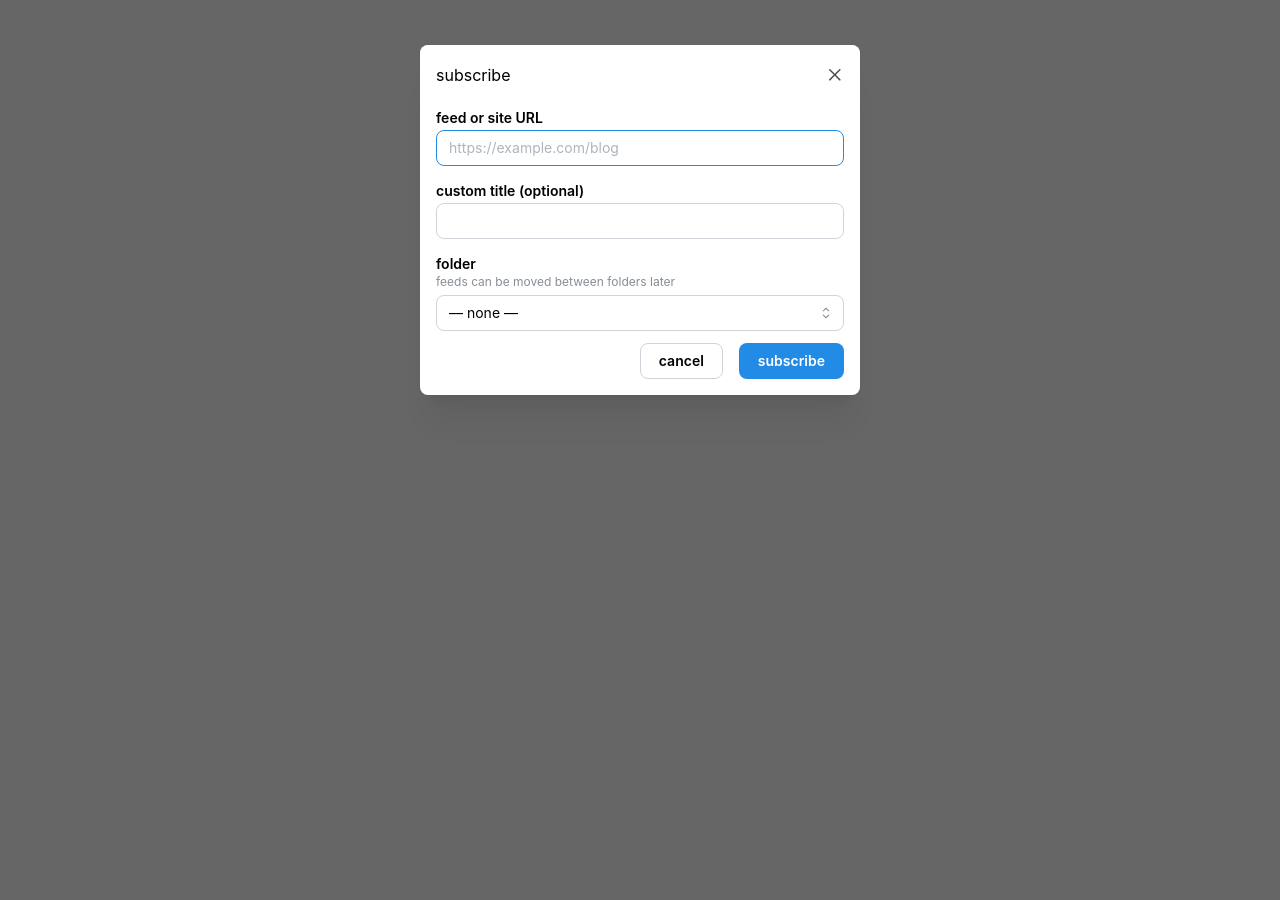
Test case: SubscribeModal › flags a non-http URL as invalid
Step 1. Type "not a url" into the field labelled "feed or site URL" → (640, 148), box [436, 130, 844, 166]
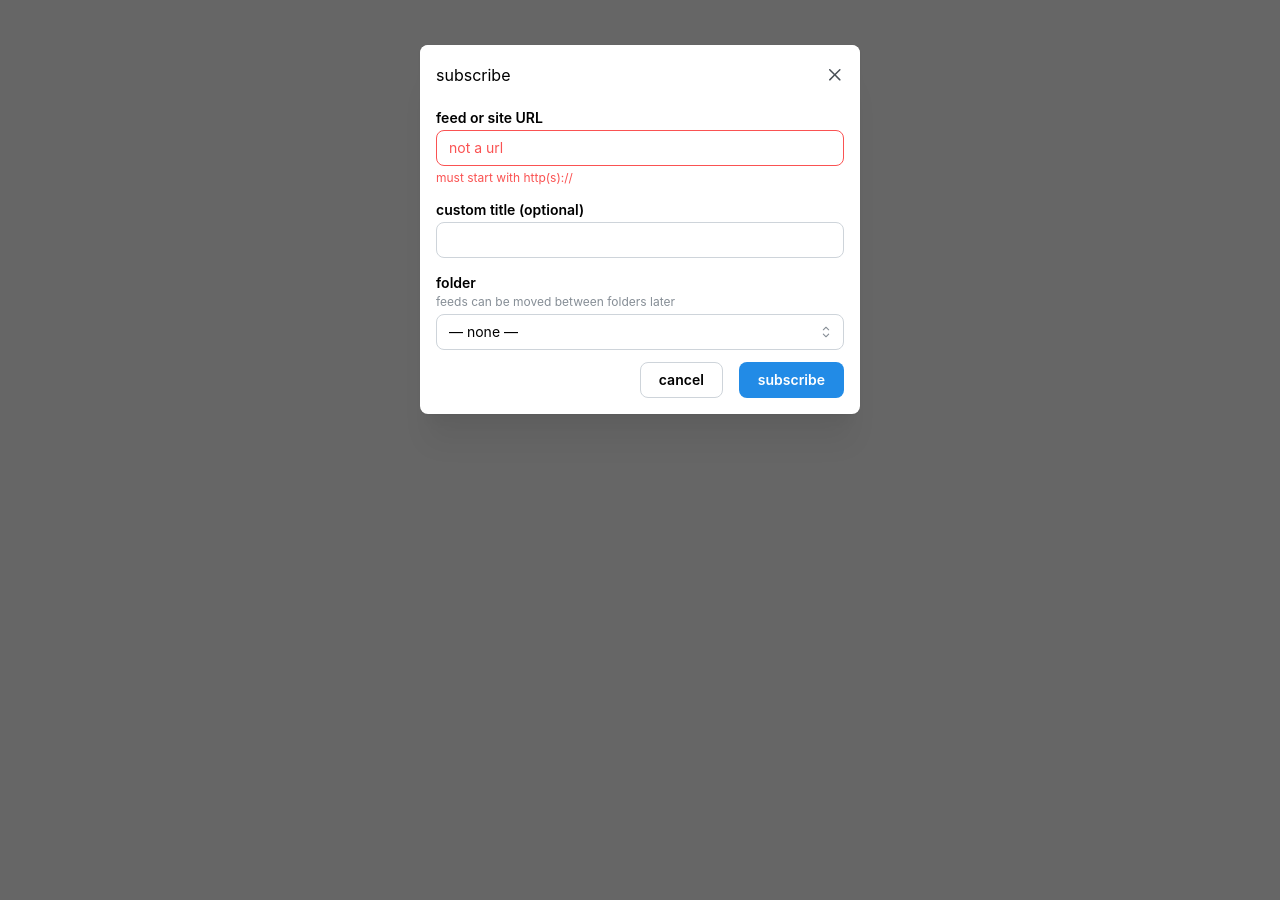
Now the text "must start with http(s)://" is shown, box [436, 170, 573, 185]
